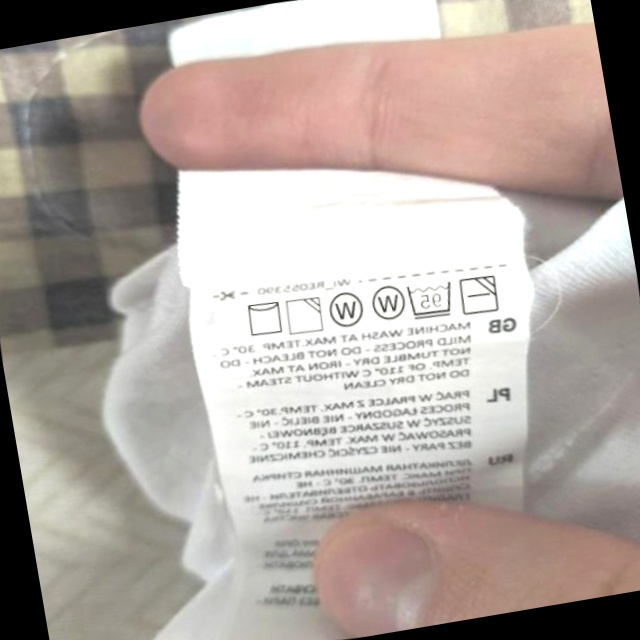95C: (402, 276, 458, 323)
dry_flat_in_shade: (456, 269, 503, 319)
line_dry: (240, 295, 287, 341)
shade_dry: (281, 292, 327, 339)
wet_clean: (324, 287, 368, 333), (365, 278, 408, 325)
